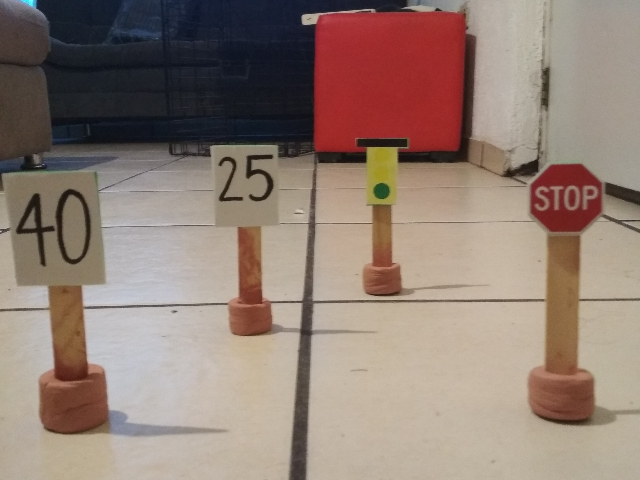Green Traffic Light: (355, 136, 410, 209)
Speed Limit 25: (206, 142, 282, 231)
Speed Limit 40: (1, 165, 112, 290)
Stop Sign: (524, 158, 606, 238)
